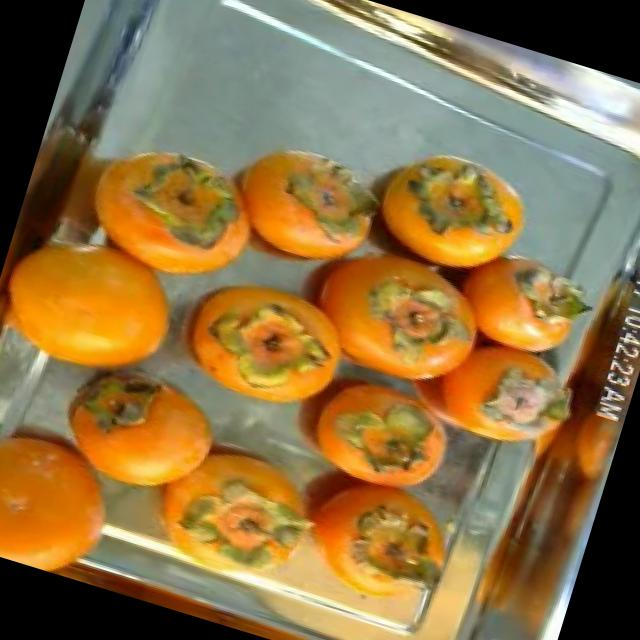Fruit: (187, 110, 414, 303), (344, 124, 553, 294)
